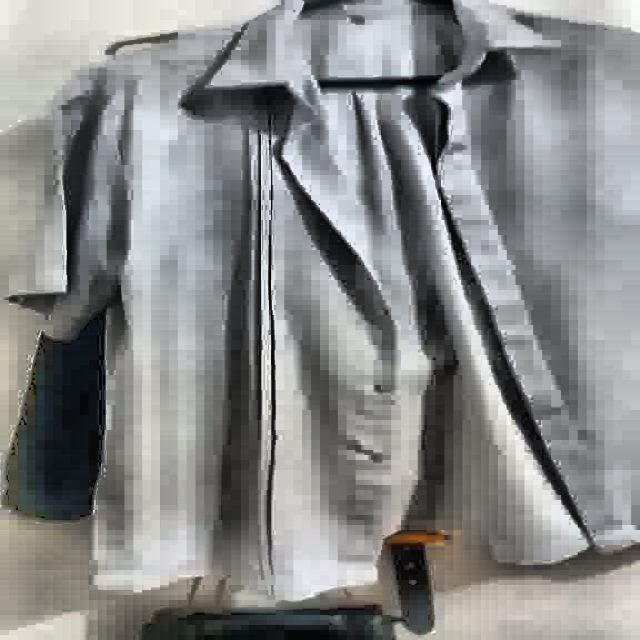clothes: (4, 0, 640, 605)
